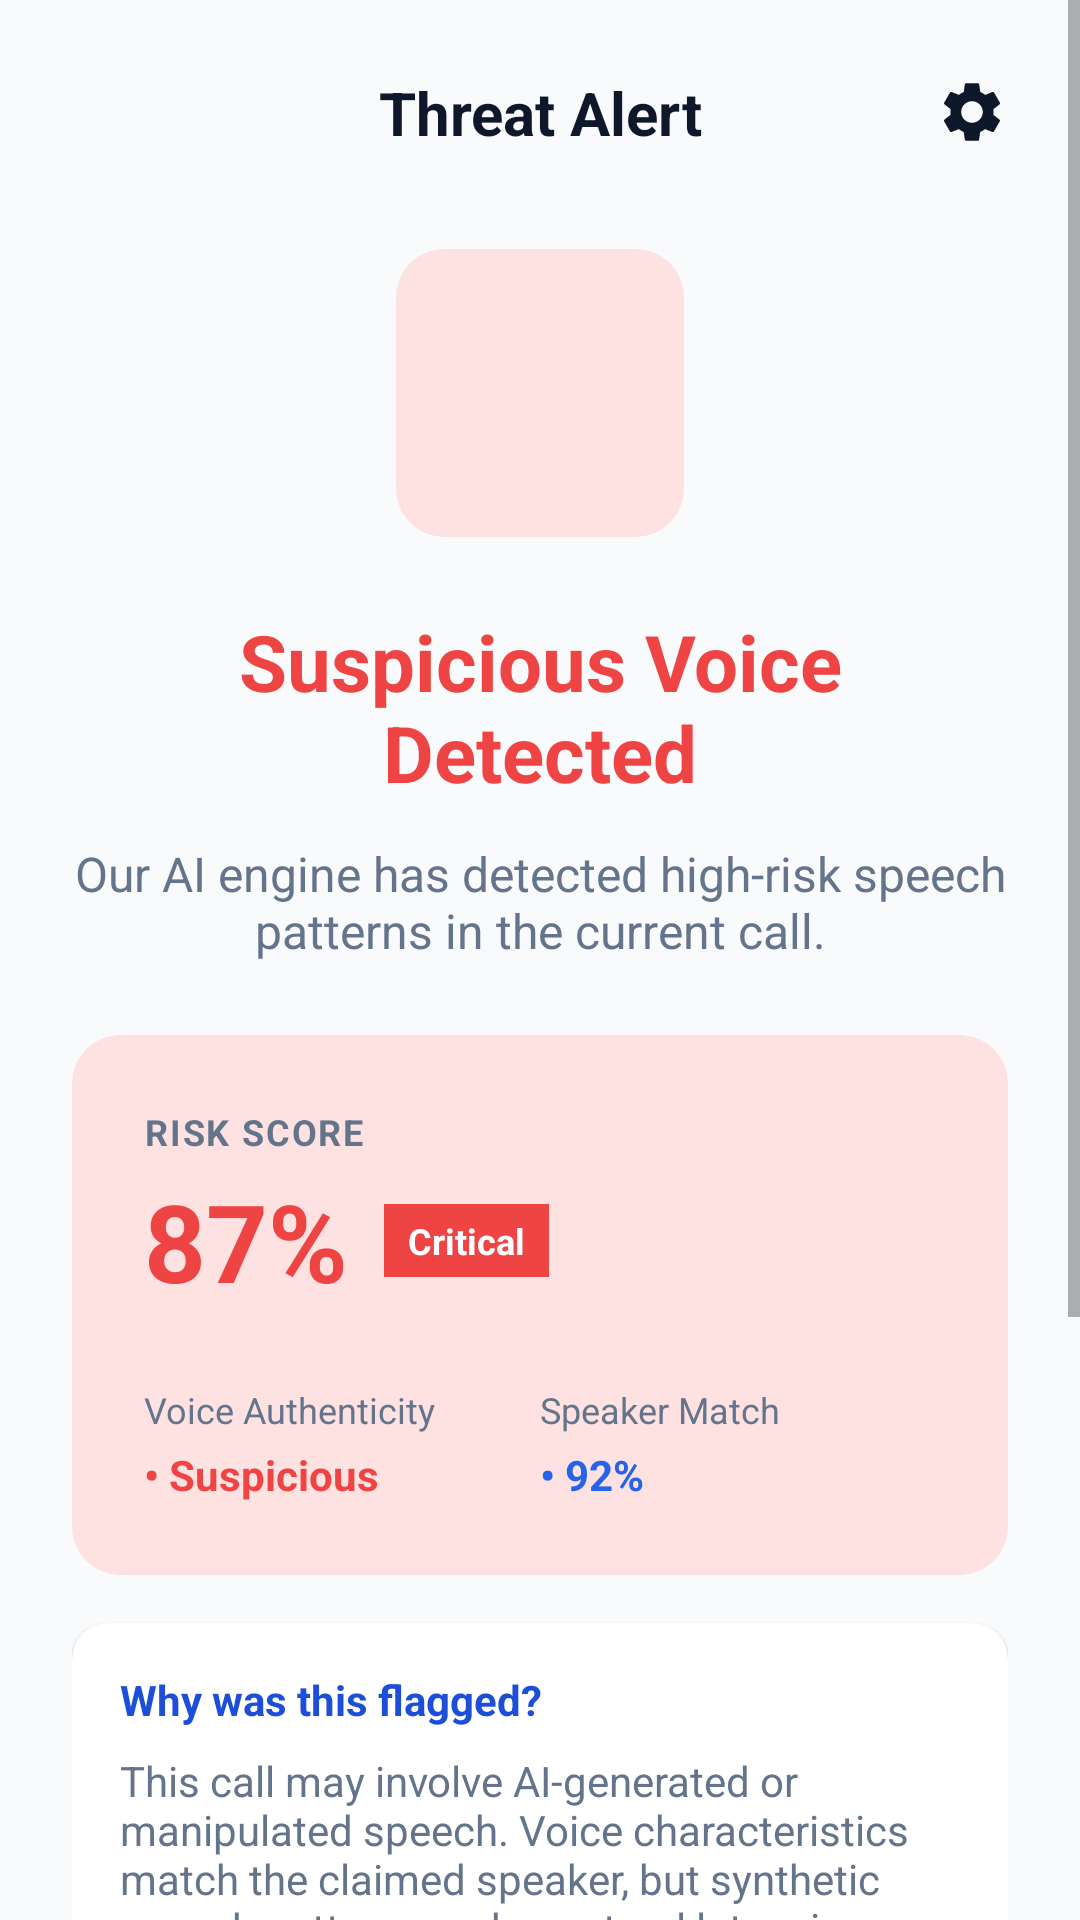

Where icons sit on this 1080px×1920px app screen, as {"x1": x1, "y1": y1, "x2": x2, "y2": y2}:
settings: {"x1": 944, "y1": 83, "x2": 1000, "y2": 141}
